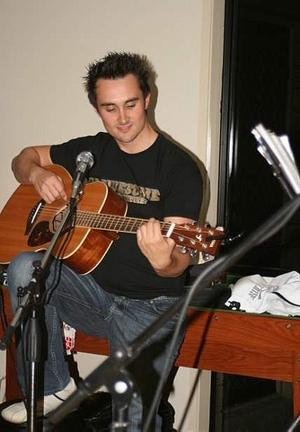person: (2, 53, 202, 432)
